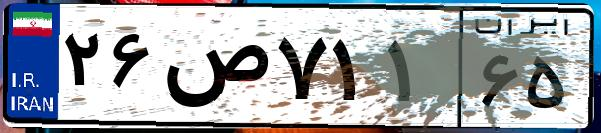1: (385, 28, 445, 110), (330, 28, 385, 110)
2: (57, 26, 110, 100)
5: (525, 38, 570, 115)
6: (475, 38, 525, 113), (110, 28, 158, 98)
7: (270, 28, 330, 110)
ص: (158, 20, 270, 120)
